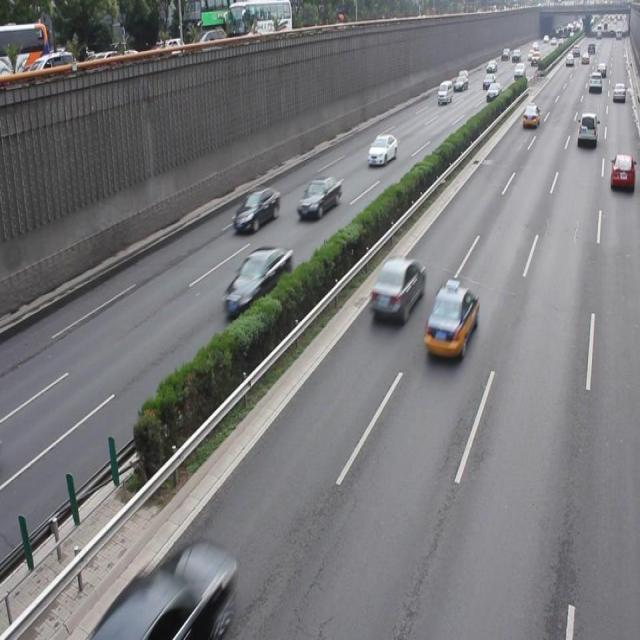car: (223, 245, 292, 317), (421, 282, 478, 359), (368, 257, 424, 321), (232, 185, 280, 233), (295, 174, 342, 218), (608, 151, 640, 192), (366, 134, 396, 166)
